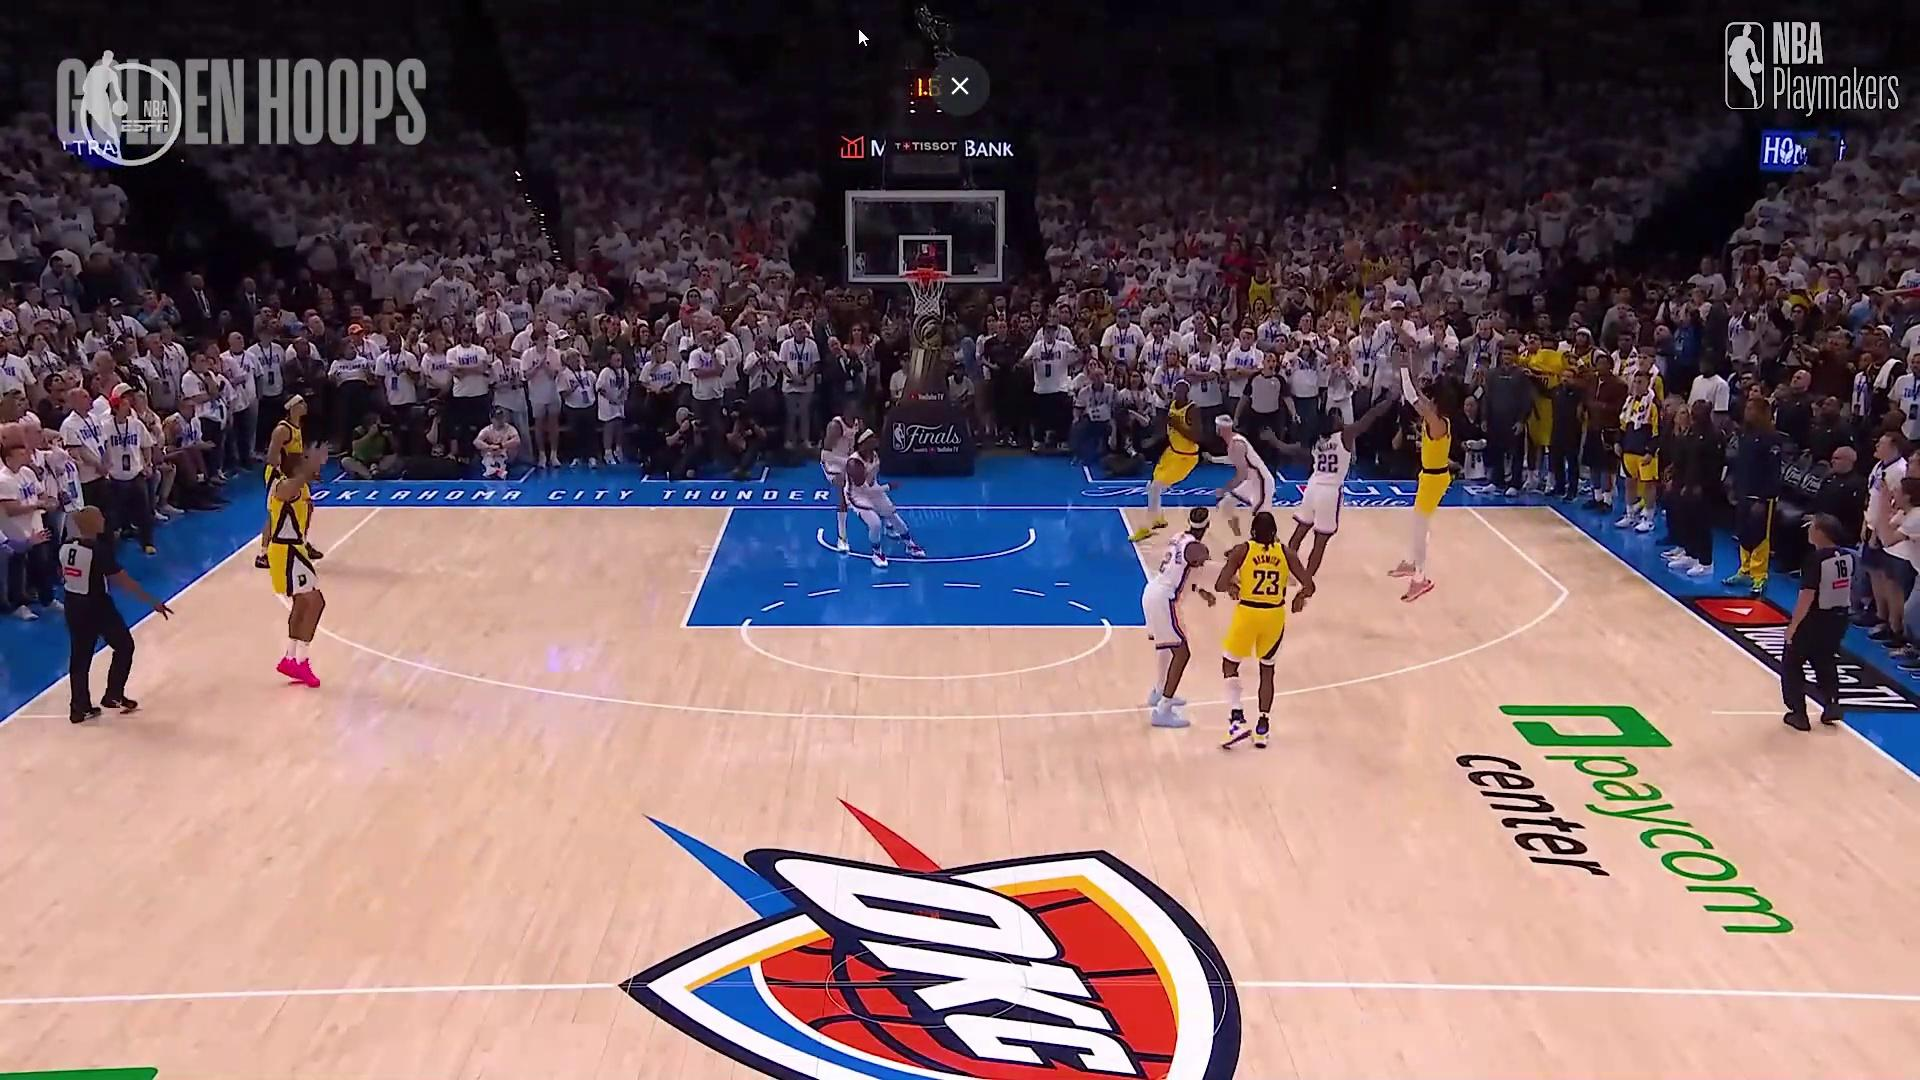hoop: (895, 260, 955, 320)
